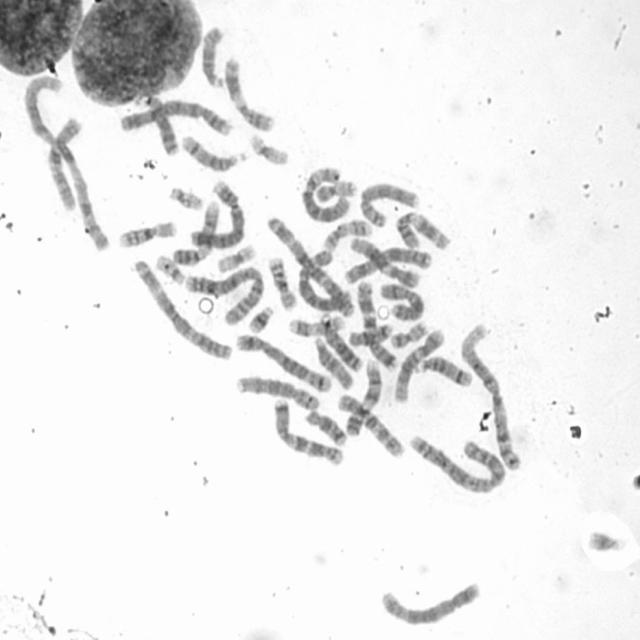A1: (18, 70, 112, 253), (456, 318, 524, 472)
A2: (405, 429, 509, 495), (181, 262, 266, 328)
A3: (130, 253, 236, 362), (263, 211, 354, 317)
B4: (114, 93, 234, 137), (189, 176, 247, 250)
B5: (232, 328, 334, 394), (377, 577, 484, 627)
C10: (334, 389, 407, 460), (44, 112, 83, 212)
C11: (221, 52, 278, 133), (391, 207, 451, 252)
C12: (391, 323, 446, 404), (344, 232, 422, 289)
C6: (293, 247, 353, 314), (298, 162, 352, 224)
C7: (269, 393, 346, 467), (353, 276, 400, 372)
C8: (232, 371, 322, 412), (356, 178, 422, 228)
C9: (168, 196, 222, 266), (341, 356, 384, 437)
D13: (316, 308, 364, 374), (142, 90, 182, 157)
D14: (177, 129, 250, 173), (412, 352, 475, 389)
D15: (310, 332, 355, 391), (197, 20, 226, 89)
E16: (114, 215, 180, 250), (265, 252, 299, 311)
E17: (320, 215, 374, 252), (286, 312, 346, 338)
E18: (302, 405, 350, 447), (346, 318, 394, 348)
F19: (246, 129, 292, 167), (213, 240, 258, 274)
F20: (388, 317, 430, 350), (313, 176, 358, 204)
G21: (584, 524, 628, 554), (245, 301, 276, 334)
G22: (152, 250, 188, 286), (165, 182, 205, 212)
X: (376, 279, 426, 322)
